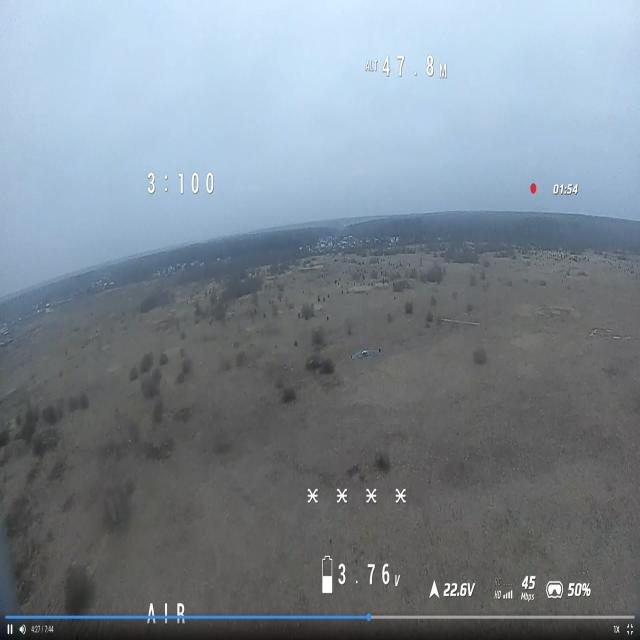planedrone: (354, 344, 382, 362)
